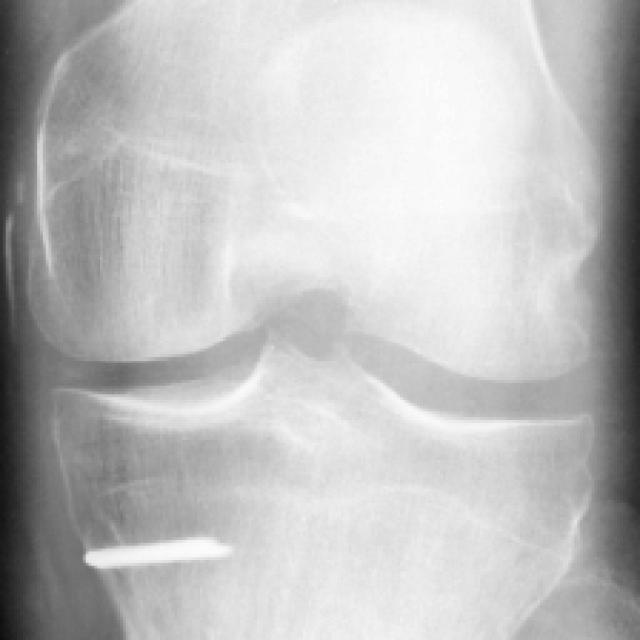femur: (24, 0, 599, 383)
tibia: (47, 333, 597, 640)
